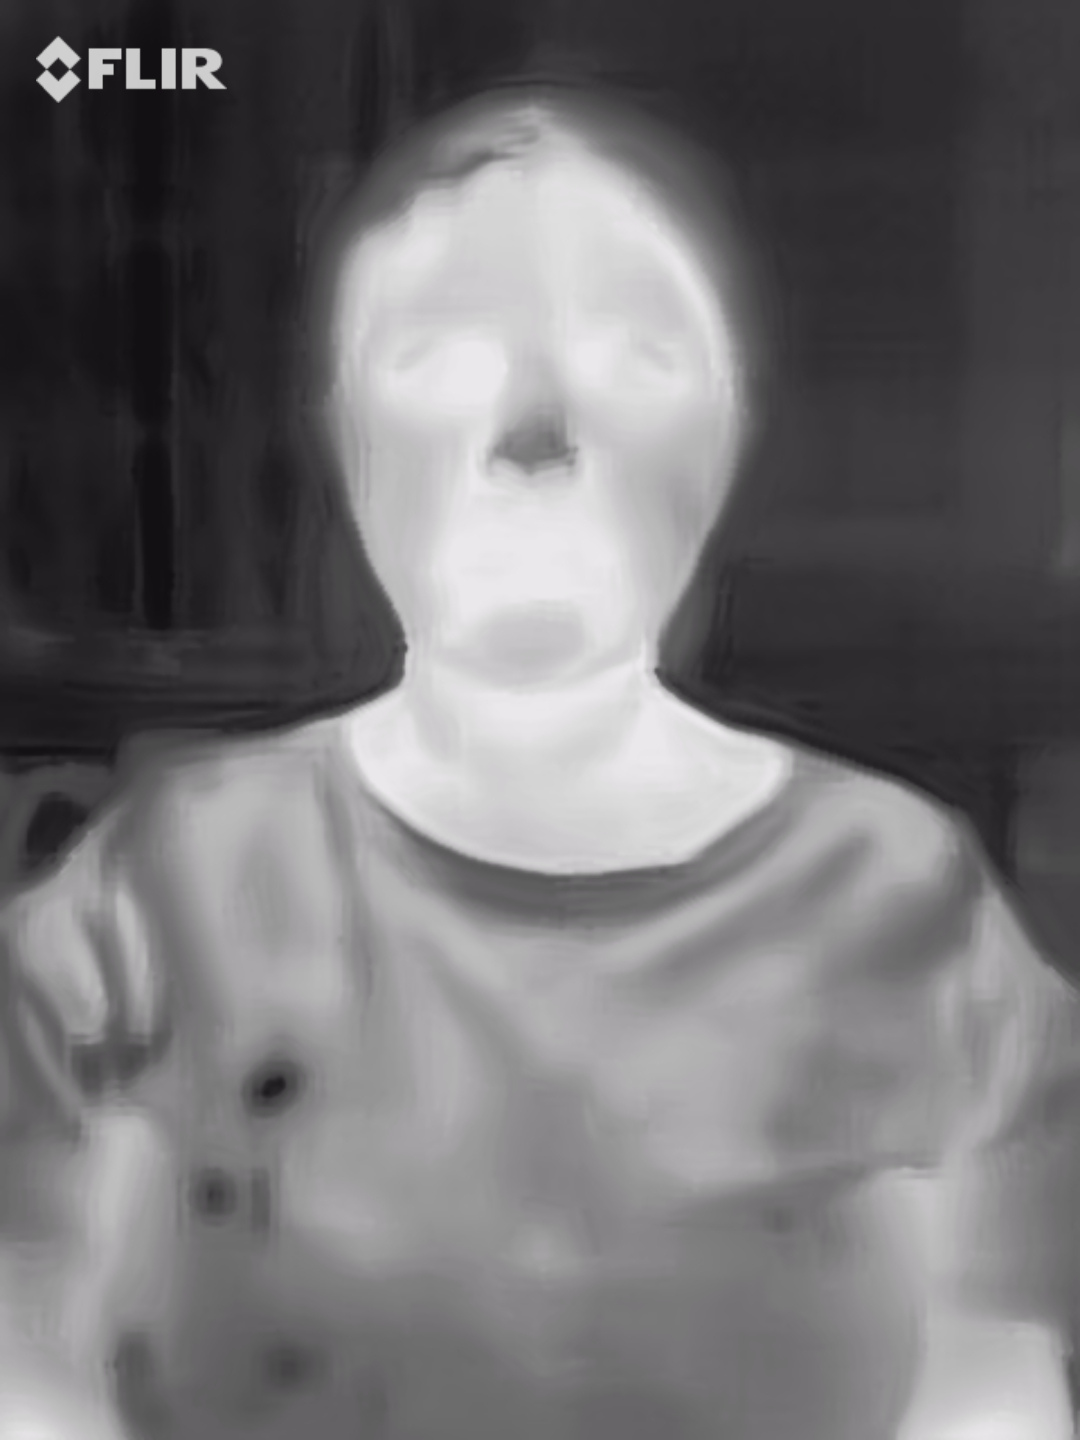head: (321, 82, 757, 696)
